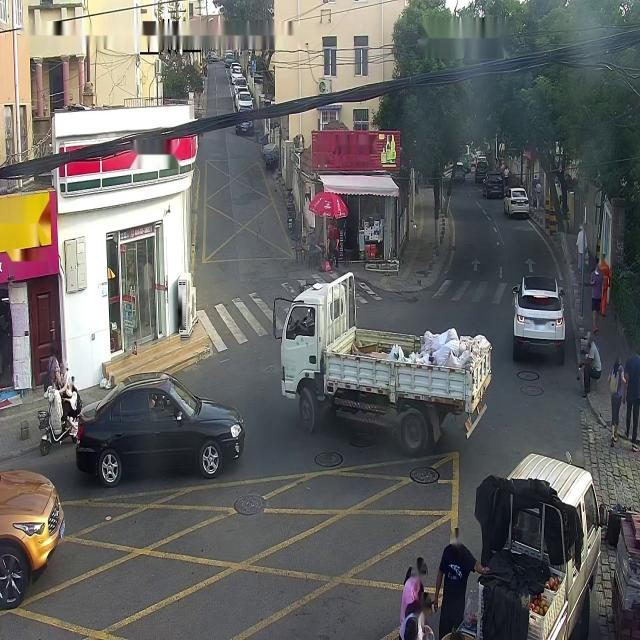car: (273, 269, 491, 456), (440, 445, 608, 637)
fixed_stall: (438, 544, 568, 637)
sunshade: (318, 174, 399, 197), (307, 190, 348, 218)
